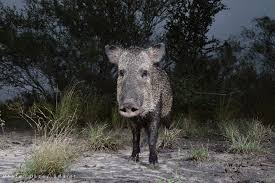javelina: (100, 33, 175, 174)
